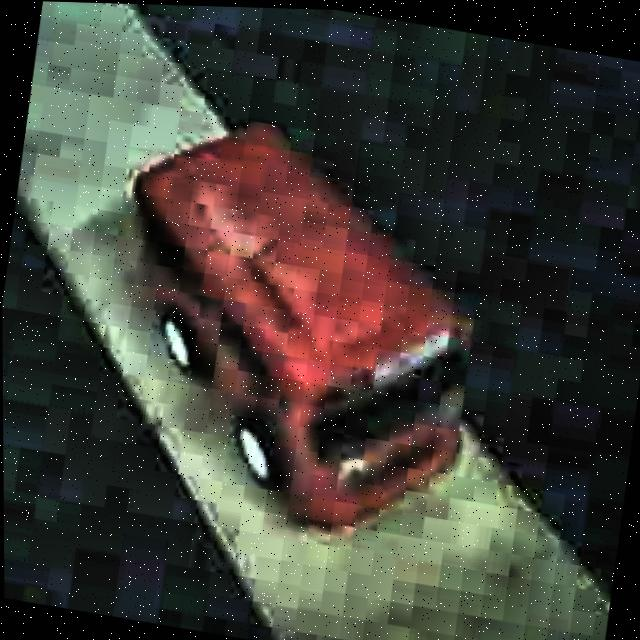bus: (83, 92, 503, 556)
